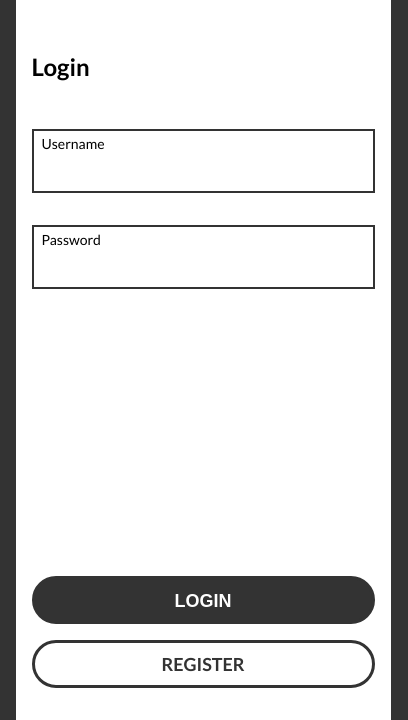
Test: empty fields validation › validate both fields are empty
Click the button "LOGIN". click: (203, 600)
box: [32, 576, 374, 624]
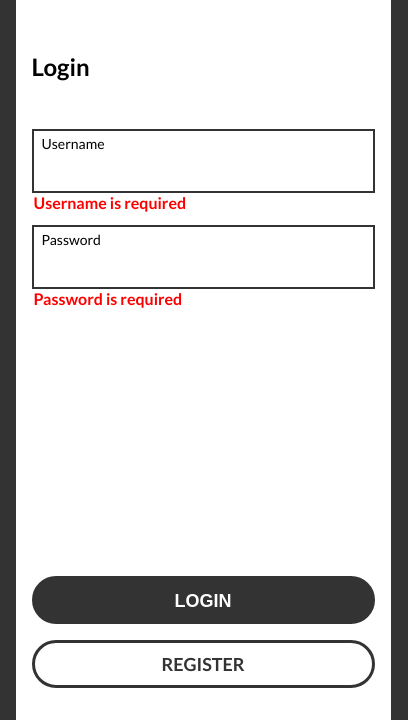
Expected: the messages read "Username is required", "Password is required", in this order, [34, 193, 186, 212]; [34, 289, 182, 308]
